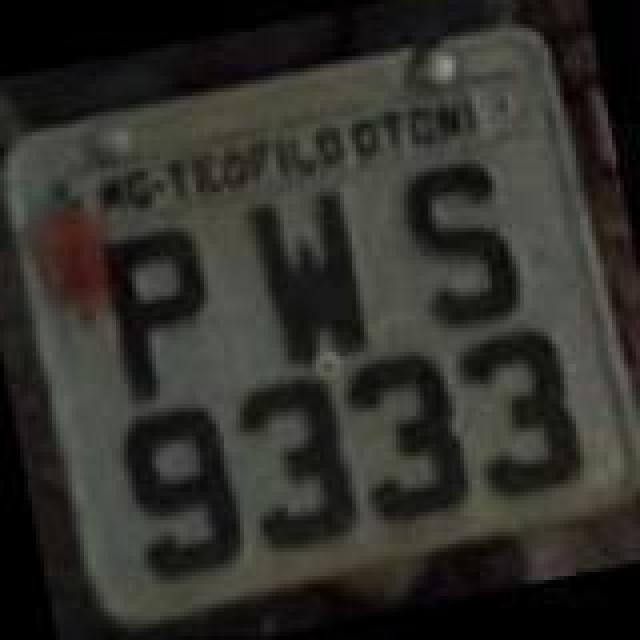3: (450, 314, 598, 510), (334, 340, 482, 536), (224, 362, 368, 562)
9: (114, 390, 254, 582)
P: (90, 216, 230, 408)
S: (398, 158, 530, 334)
W: (244, 180, 380, 376)
